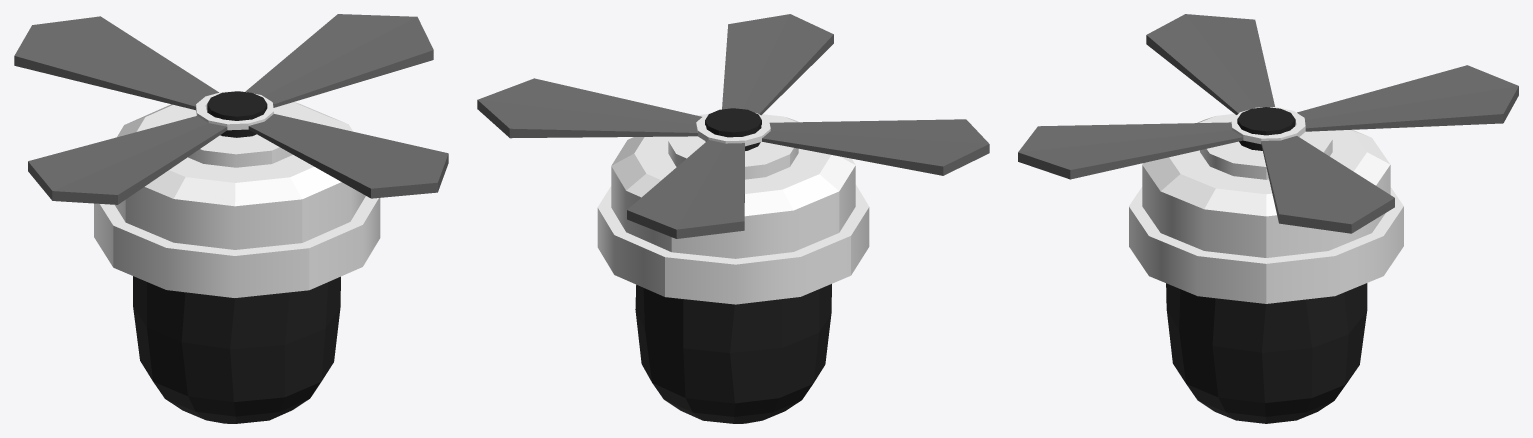
File: enemy3.fbx
The picture shows the model from 3 angles, left to right: view 1: azimuth 30°, elevation 25°; view 2: azimuth 150°, elevation 25°; view 3: azimuth 270°, elevation 25°; orthographic projection. The views are drawn at different scales.
Parts seen in each view (by area): view 1: enemy3; view 2: enemy3; view 3: enemy3.
Boxes of the visible parts, left/top/right/bottom form: enemy3: left=14, top=14, right=448, bottom=423; enemy3: left=477, top=14, right=989, bottom=423; enemy3: left=1018, top=14, right=1518, bottom=423.
Bounding box in the file's own units: 129 × 81.89 × 130.
Materials: 3 (3 with a texture image).
